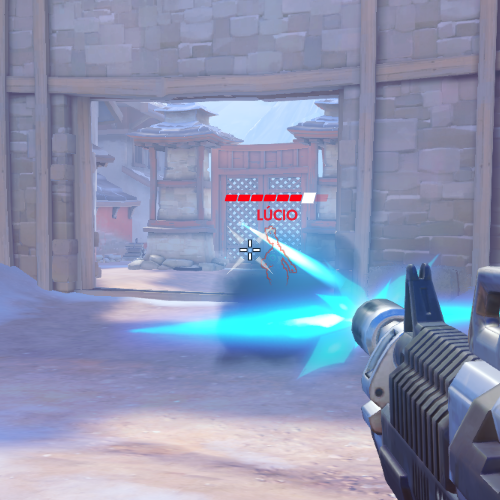hpbar: (224, 194, 329, 202)
